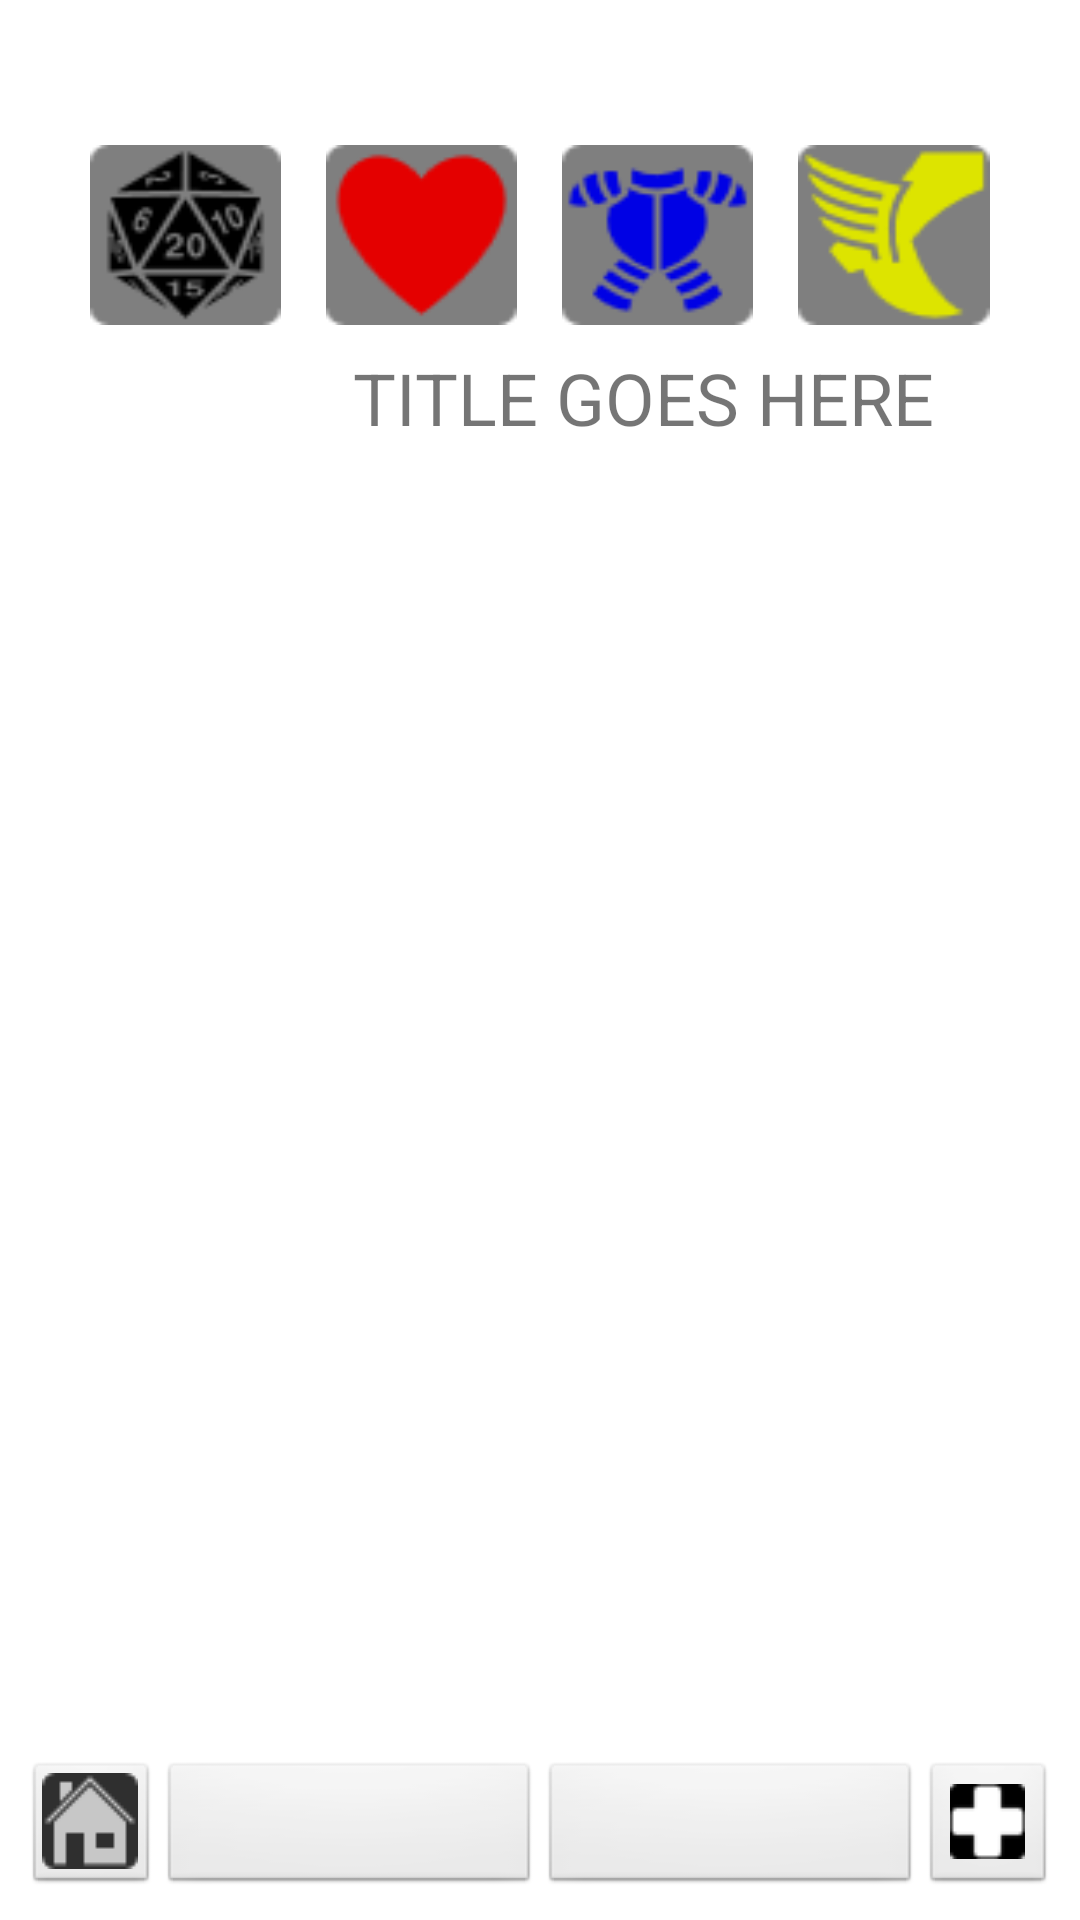

Icon click points for this 1080px×1920px phone screenshot, format (x,y):
Add Button: (988,1823)
breastplate: (657,235)
dice: (185,235)
heart: (421,235)
Home Button: (91,1825)
wingfoot: (894,235)
